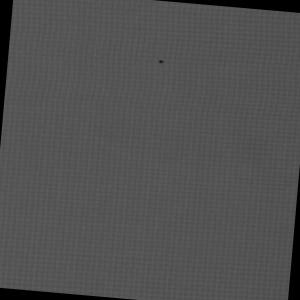Stain: (154, 55, 168, 69)
